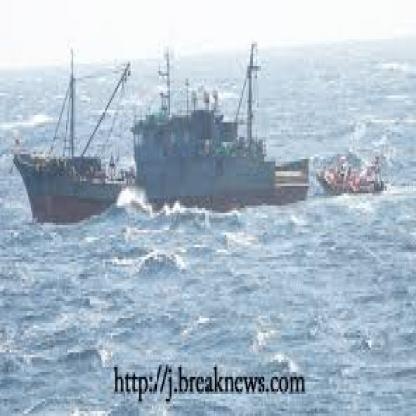fish-b: (3, 32, 316, 237)
